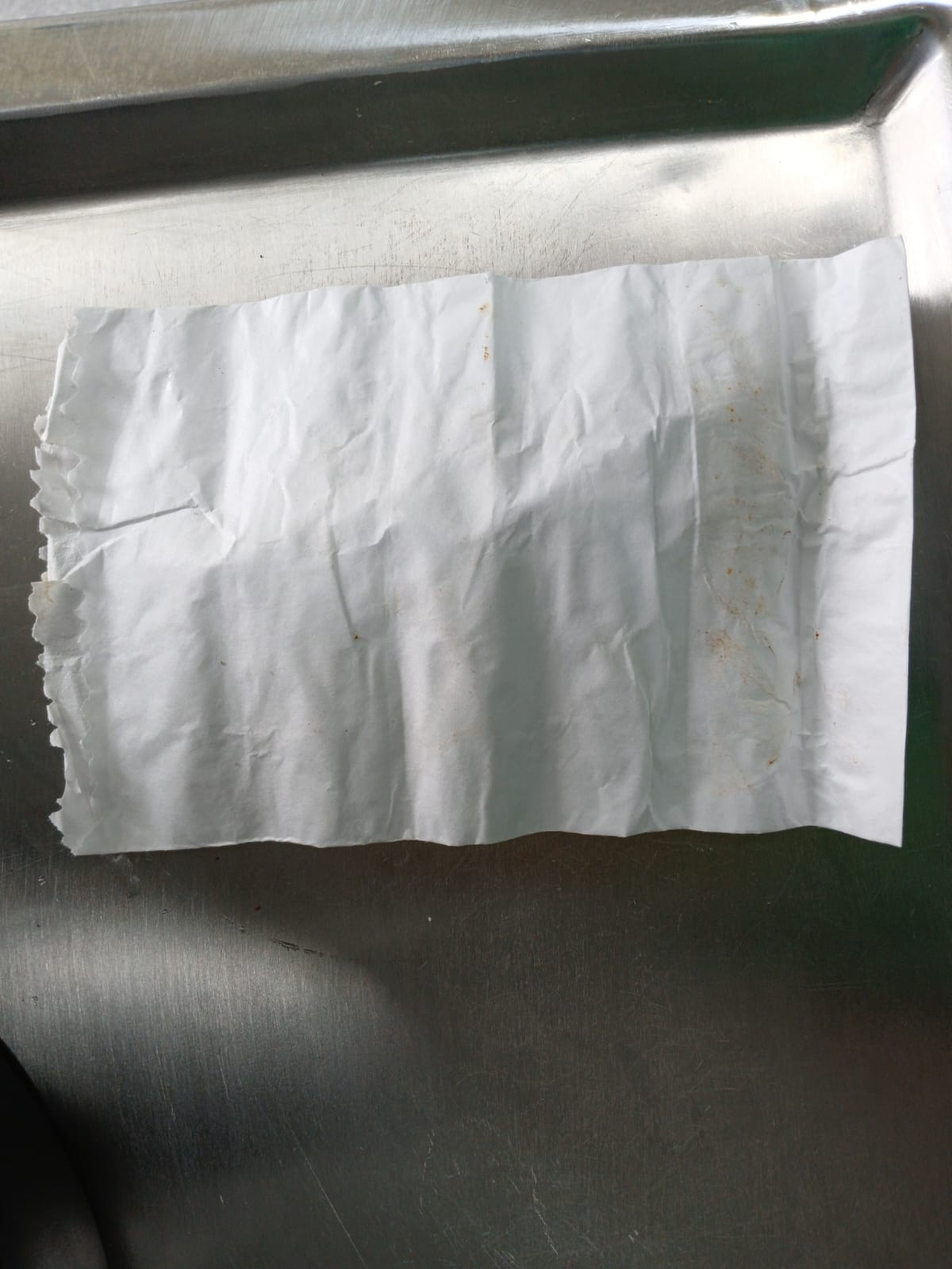Papel: (28, 235, 933, 850)
